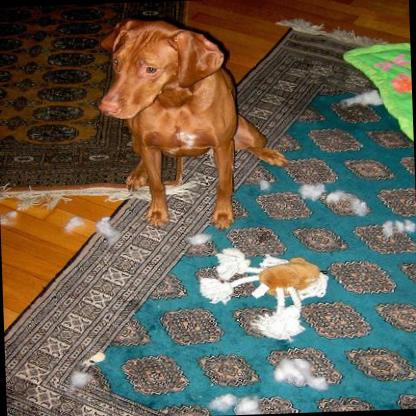vizsla: (94, 14, 286, 232)
